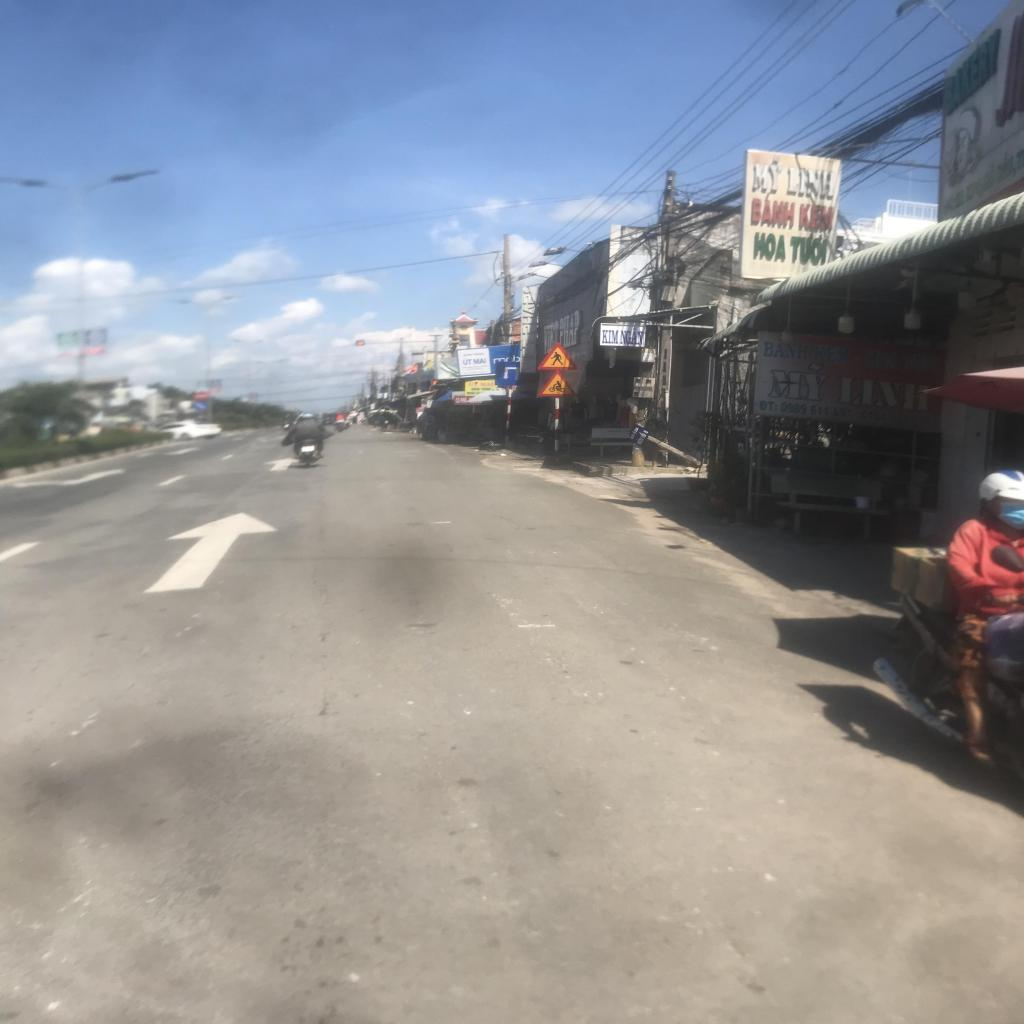cam_xe_di_nguoc_chieu: (194, 391, 208, 401)
cho_quay_xe: (494, 362, 520, 386)
chu_y_nguoi_di_bo_cat_ngang: (536, 341, 578, 370)
chu_y_nguoi_di_xe_dap_cat_ngang: (537, 369, 578, 396)
huong_phai_di_vuot_chuong_ngai_vat_phai: (192, 400, 208, 410)
